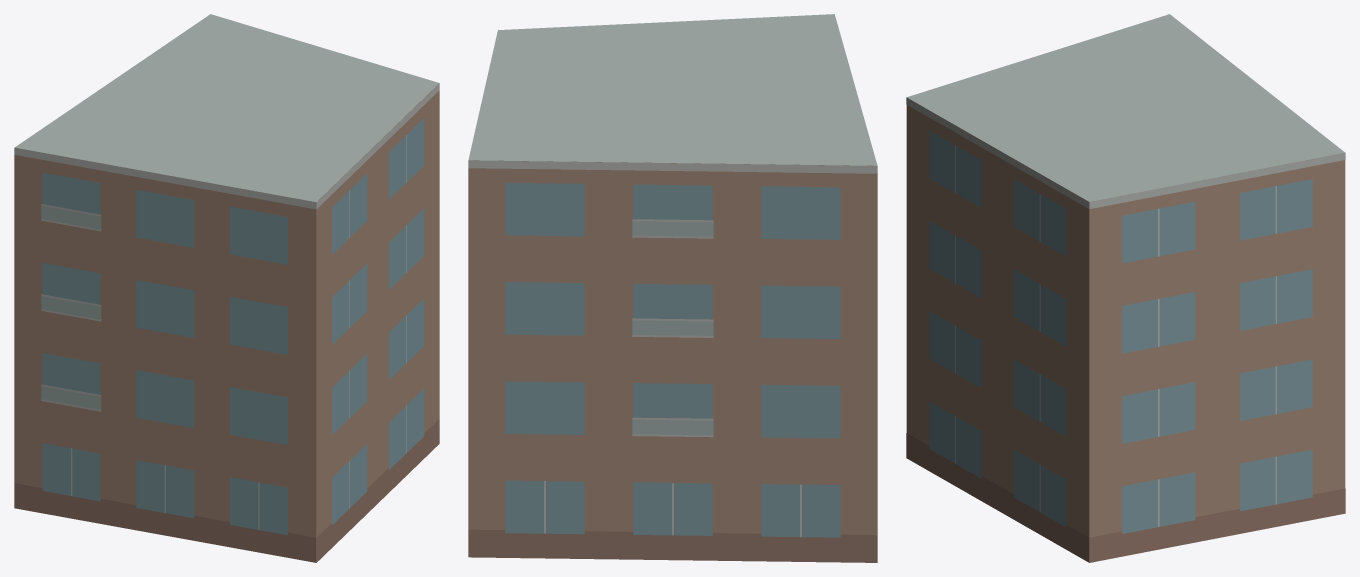
File: survey-upis-32936383.glb
3 renders of one model, left to right at view 1: azimuth 30°, elevation 25°; view 2: azimuth 150°, elevation 25°; view 3: azimuth 270°, elevation 25°, orthographic. The views are drawn at different scales.
Visible parts, largest first — view 1: survey-upis-32936383.tmp; view 2: survey-upis-32936383.tmp; view 3: survey-upis-32936383.tmp.
Part boxes in pixels (left/top/right/bottom): survey-upis-32936383.tmp: left=14, top=14, right=439, bottom=562; survey-upis-32936383.tmp: left=468, top=14, right=877, bottom=562; survey-upis-32936383.tmp: left=906, top=14, right=1345, bottom=562.
Size of the model in its own units: 13.64 by 12.2 by 13.46.
